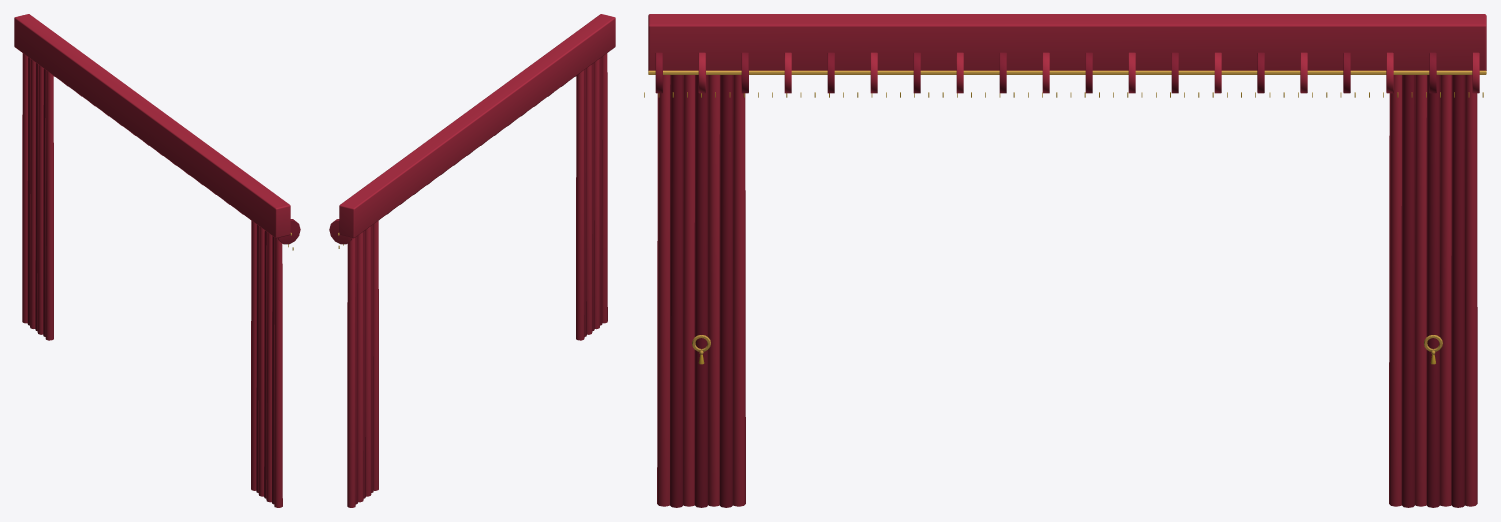
Rendered from SM_Cinema_Curtains.fbx.
3 views of the same model, side by side, from view 1: azimuth 30°, elevation 25°; view 2: azimuth 150°, elevation 25°; view 3: azimuth 270°, elevation 25° (orthographic). The views are drawn at different scales.
Parts seen in each view (by area): view 1: SM_Cinema_Curtains; view 2: SM_Cinema_Curtains; view 3: SM_Cinema_Curtains.
Part boxes in pixels (left/top/right/bottom): SM_Cinema_Curtains: left=14, top=14, right=300, bottom=507; SM_Cinema_Curtains: left=329, top=14, right=615, bottom=507; SM_Cinema_Curtains: left=644, top=14, right=1486, bottom=507.
Bounding box in the file's own units: 142 × 1505 × 2371.
